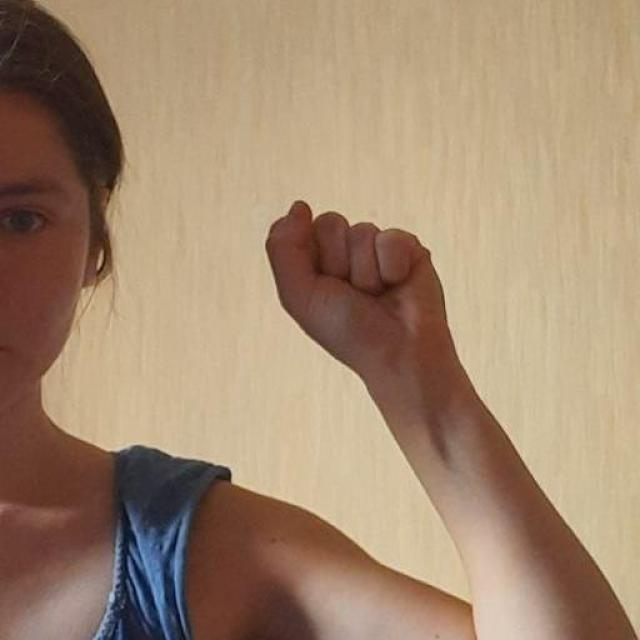hand: (262, 197, 483, 458)
